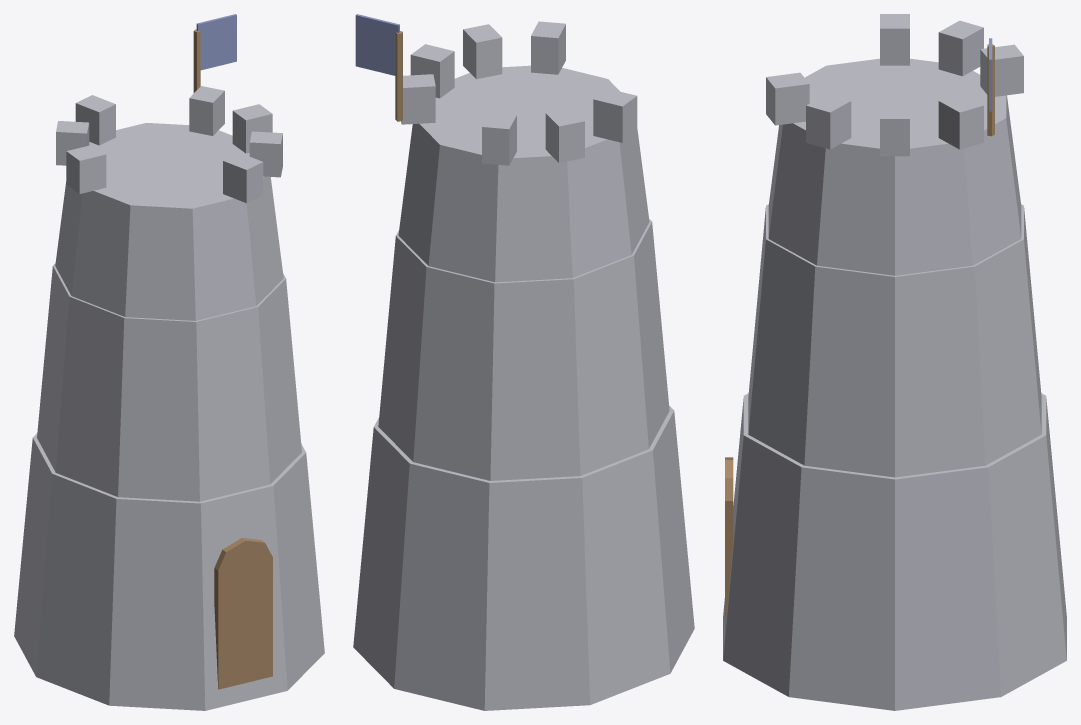
Rendered from ancient_tower.glb.
The picture shows the model from 3 angles, left to right: view 1: azimuth 30°, elevation 25°; view 2: azimuth 150°, elevation 25°; view 3: azimuth 270°, elevation 25°; orthographic projection. The views are drawn at different scales.
Visible parts, largest first — view 1: TowerStage0, TowerStage1, TowerStage2, TowerDoor, TowerArch, TowerBanner, Battlement_8, Battlement_5, Battlement_1, Battlement_3, Battlement_0, Battlement_9 (+1 smaller); view 2: TowerStage0, TowerStage1, TowerStage2, TowerBanner, Battlement_5, Battlement_9, Battlement_4, Battlement_8, Battlement_3, Battlement_1, Battlement_0, TowerPole; view 3: TowerStage0, TowerStage1, TowerStage2, Battlement_1, Battlement_9, Battlement_4, Battlement_8, Battlement_3, Battlement_0, Battlement_5, TowerDoor.
Boxes of the visible parts, x1,y1,x2,y2 form: TowerStage0: (14, 433, 324, 710); TowerStage1: (37, 263, 301, 501); TowerStage2: (55, 123, 283, 320); TowerDoor: (214, 558, 272, 689); TowerArch: (214, 538, 272, 587); TowerBanner: (196, 14, 236, 70); Battlement_8: (223, 152, 263, 203); Battlement_5: (66, 144, 106, 193); Battlement_1: (189, 86, 224, 135); Battlement_3: (75, 95, 115, 145); Battlement_0: (232, 104, 272, 153); Battlement_9: (249, 131, 282, 177); TowerStage0: (353, 405, 694, 710); TowerStage1: (378, 219, 669, 480); TowerStage2: (398, 65, 649, 282); TowerBanner: (355, 14, 399, 75); Battlement_5: (593, 88, 637, 142); Battlement_9: (463, 24, 502, 79); Battlement_4: (545, 108, 584, 162); Battlement_8: (531, 21, 565, 74); Battlement_3: (482, 112, 516, 165); Battlement_1: (401, 74, 435, 124); Battlement_0: (410, 44, 454, 98); TowerPole: (395, 31, 402, 121); TowerStage0: (723, 393, 1066, 710); TowerStage1: (748, 204, 1041, 477); TowerStage2: (768, 58, 1021, 275); Battlement_1: (938, 94, 983, 149); Battlement_9: (806, 94, 851, 149); Battlement_4: (938, 20, 983, 76); Battlement_8: (766, 72, 809, 125); Battlement_3: (980, 44, 1023, 96); Battlement_0: (880, 104, 909, 156); Battlement_5: (880, 14, 909, 65); TowerDoor: (725, 501, 733, 631).
Size of the model in its own units: 4 by 8.2 by 4.
